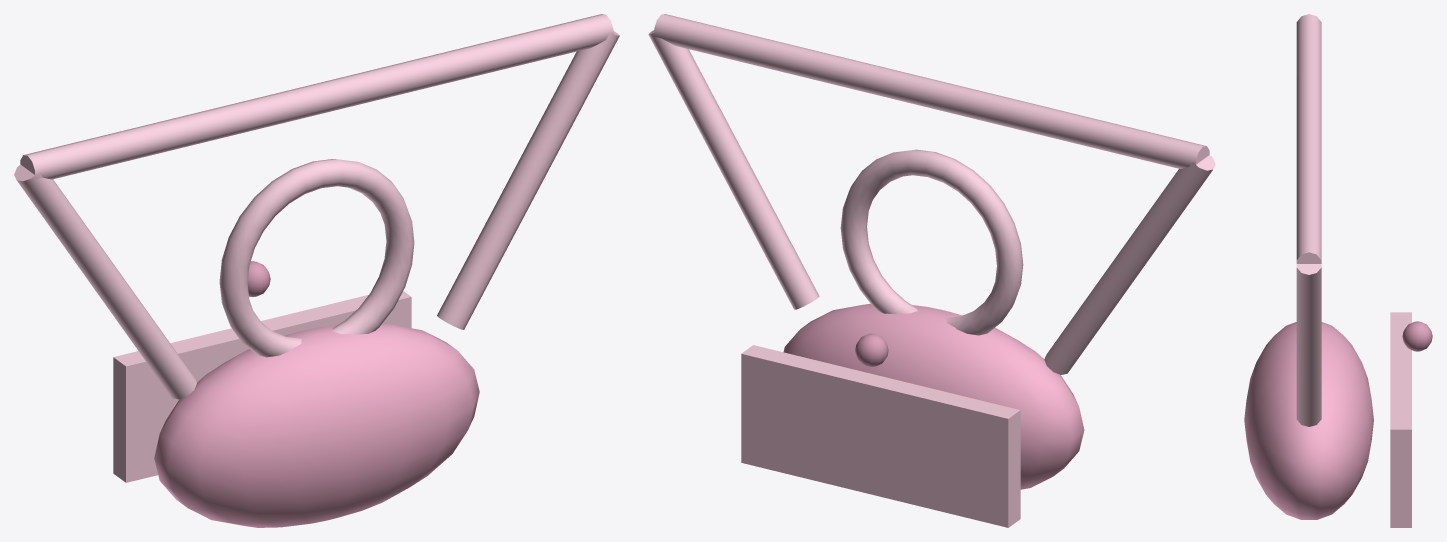
The model's file is VM-DAM-SH41097305.glb.
The picture shows the model from 3 angles, left to right: view 1: azimuth 30°, elevation 25°; view 2: azimuth 150°, elevation 25°; view 3: azimuth 270°, elevation 25°; orthographic projection. The views are drawn at different scales.
Parts seen in each view (by area): view 1: Bolso de Mano Marc Jacobs Rosa; view 2: Bolso de Mano Marc Jacobs Rosa; view 3: Bolso de Mano Marc Jacobs Rosa.
Boxes of the visible parts, <box> form: Bolso de Mano Marc Jacobs Rosa: <box>14,14,619,527</box>; Bolso de Mano Marc Jacobs Rosa: <box>648,14,1215,527</box>; Bolso de Mano Marc Jacobs Rosa: <box>1244,14,1432,527</box>.
Size of the model in its own units: 0.5132 by 0.3519 by 0.1652.
